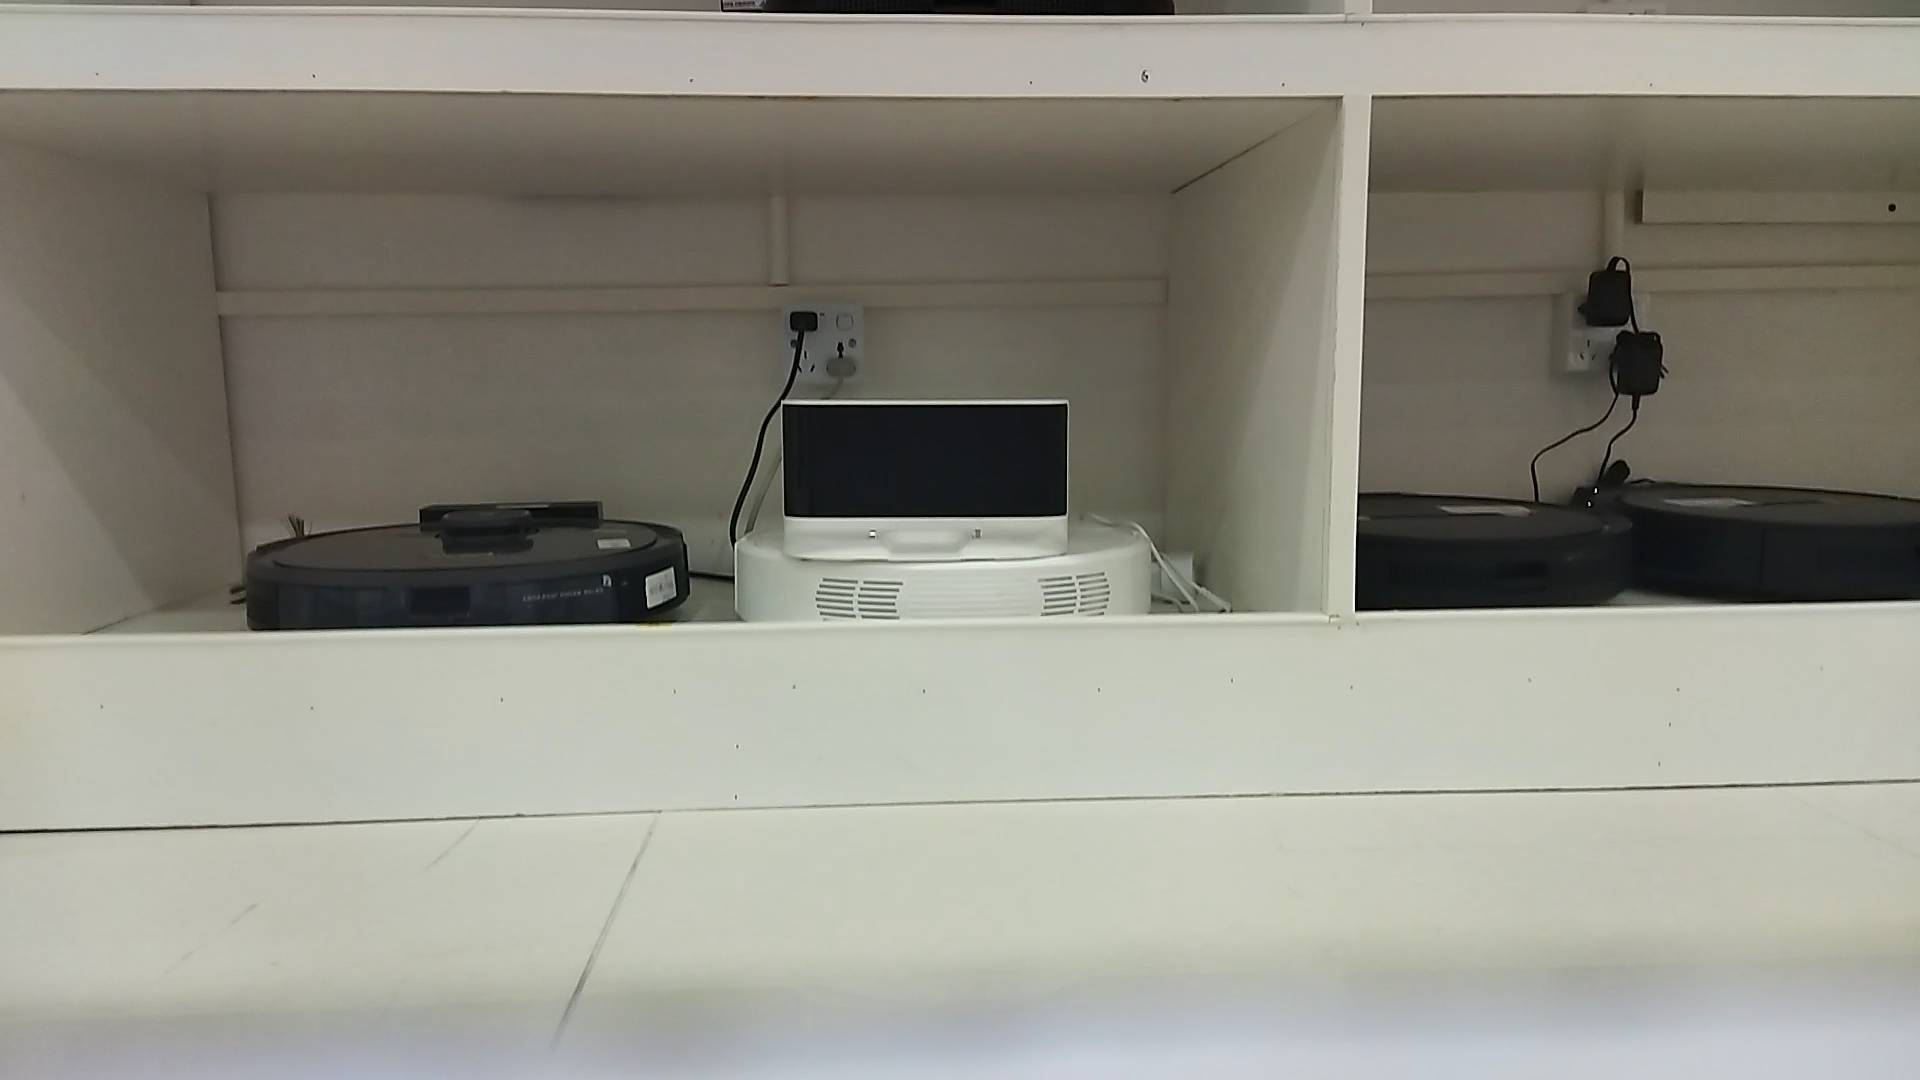recharge seat: (778, 397, 1076, 566)
